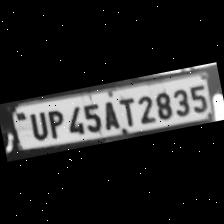2: (132, 92, 156, 126)
3: (168, 84, 192, 118)
4: (61, 103, 84, 136)
5: (185, 80, 211, 114), (78, 100, 103, 134)
8: (150, 88, 174, 122)
A: (98, 97, 121, 132)
P: (42, 106, 66, 141)
T: (114, 94, 138, 129)
U: (24, 109, 48, 142)
